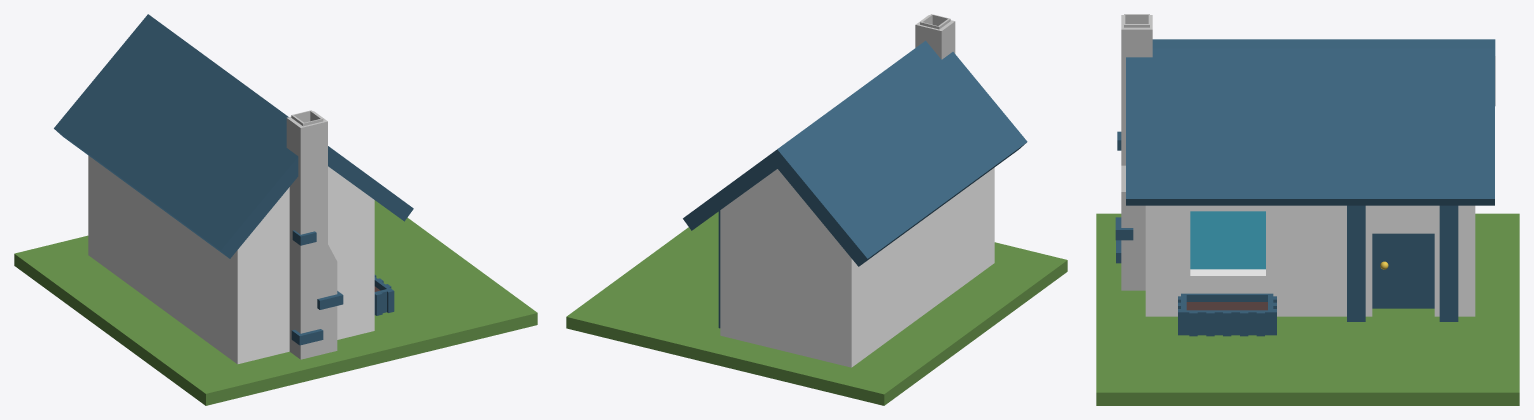
File: casa-2.glb
The picture shows the model from 3 angles, left to right: view 1: azimuth 30°, elevation 25°; view 2: azimuth 150°, elevation 25°; view 3: azimuth 270°, elevation 25°; orthographic projection. The views are drawn at different scales.
Parts seen in each view (by area): view 1: Cubo.002, Cube, Cubo, Cubo.003, Cubo.005; view 2: Cubo, Cubo.002, Cube, Cubo.003; view 3: Cubo.002, Cube, Cubo, Cubo.005, Cubo.003, Cubo.004, Cubo.001.
Boxes of the visible parts, <box> form: Cubo.002: <box>54,14,413,258</box>; Cube: <box>14,200,537,405</box>; Cubo: <box>88,155,374,364</box>; Cubo.003: <box>286,110,337,359</box>; Cubo.005: <box>374,275,394,315</box>; Cubo: <box>720,167,994,367</box>; Cubo.002: <box>683,40,1027,266</box>; Cube: <box>566,211,1067,405</box>; Cubo.003: <box>915,14,955,59</box>; Cubo.002: <box>1126,39,1495,205</box>; Cube: <box>1096,213,1519,405</box>; Cubo: <box>1145,205,1475,316</box>; Cubo.005: <box>1178,293,1276,336</box>; Cubo.003: <box>1121,14,1152,290</box>; Cubo.004: <box>1439,205,1458,321</box>; Cubo.001: <box>1347,205,1365,321</box>.
Size of the model in its own units: 6.17 by 4.38 by 6.17.
